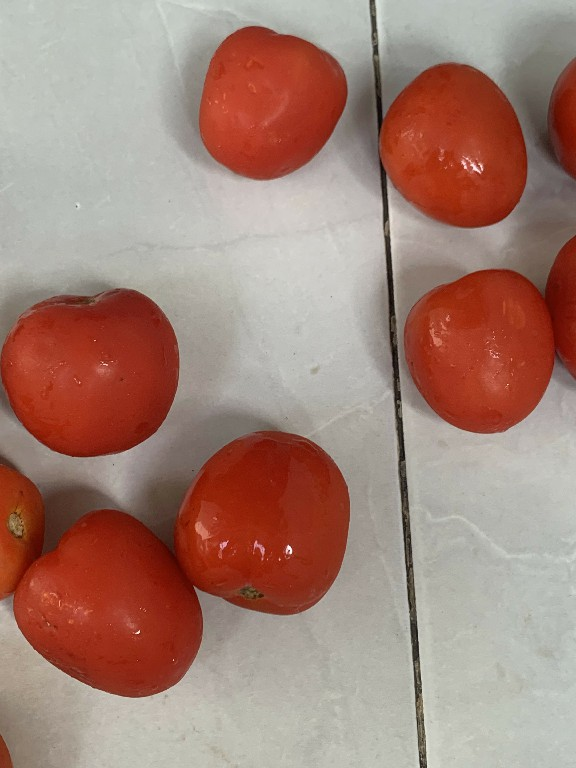OK: (7, 499, 208, 707), (173, 431, 355, 618), (0, 284, 177, 469), (367, 54, 536, 237), (403, 259, 565, 440), (191, 20, 352, 182)
